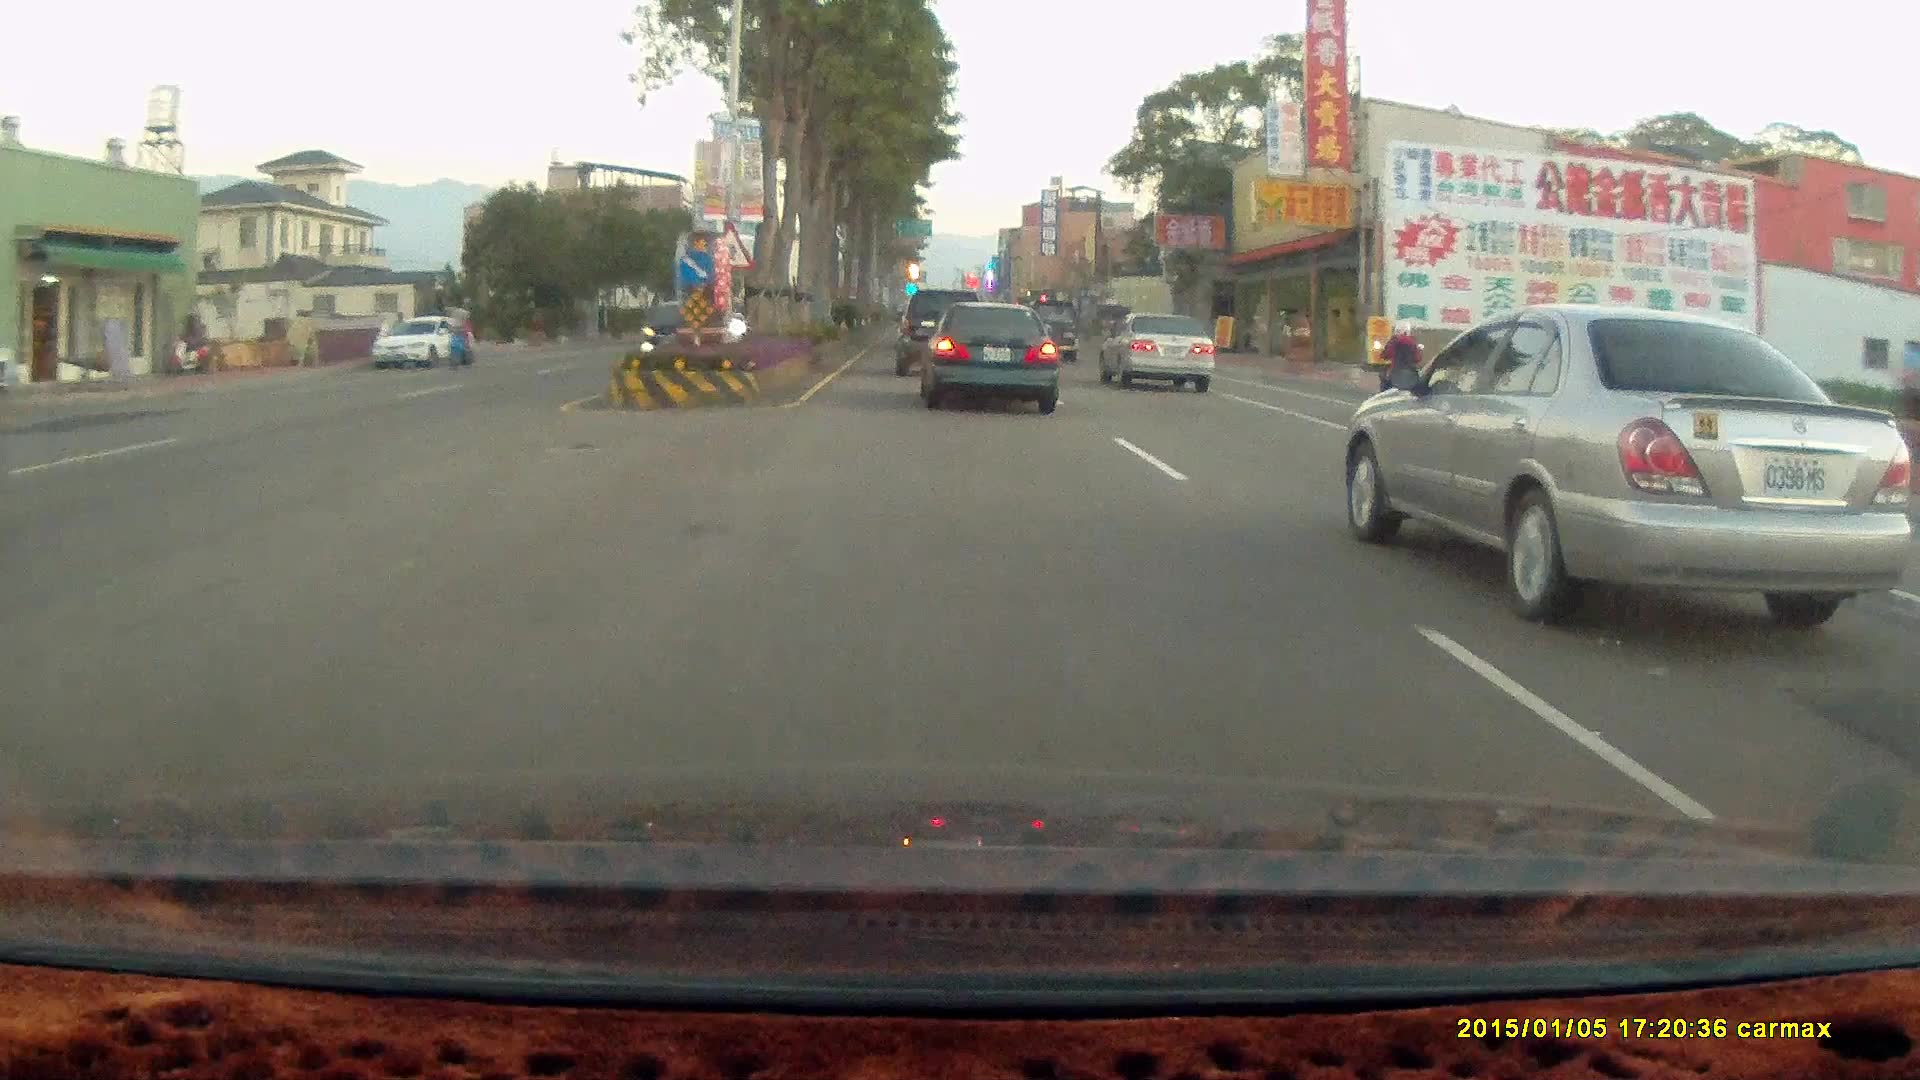rider: (1366, 310, 1440, 421), (1367, 310, 1418, 416), (442, 298, 477, 365)
vehicle: (1351, 288, 1920, 619), (918, 300, 1061, 419), (914, 298, 1058, 411), (1097, 311, 1219, 395), (1094, 310, 1215, 393), (892, 288, 990, 379), (893, 282, 982, 370), (368, 315, 467, 372), (641, 301, 725, 362), (641, 300, 727, 361), (1014, 295, 1079, 361)
